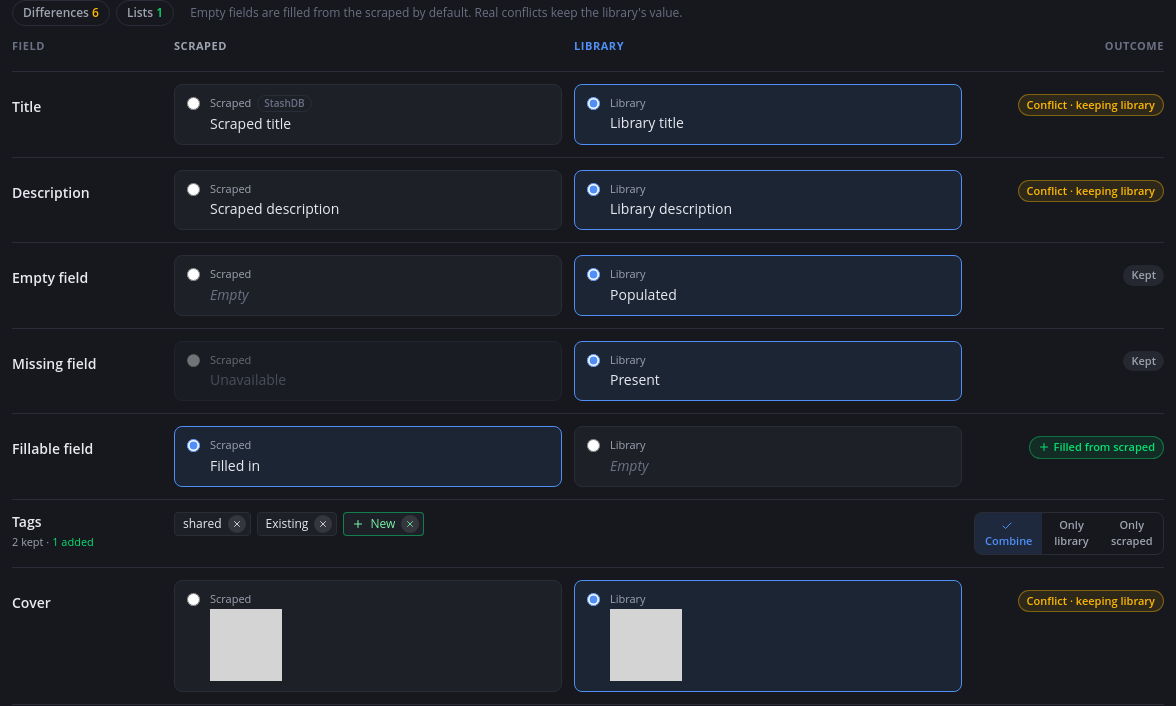
Test: MetadataDiff › applies combined, kept-only and incoming-only presets
Click the button with aria-label "Use source Tags" at [1132, 533], box x1=1100 y1=512 x2=1163 y2=554
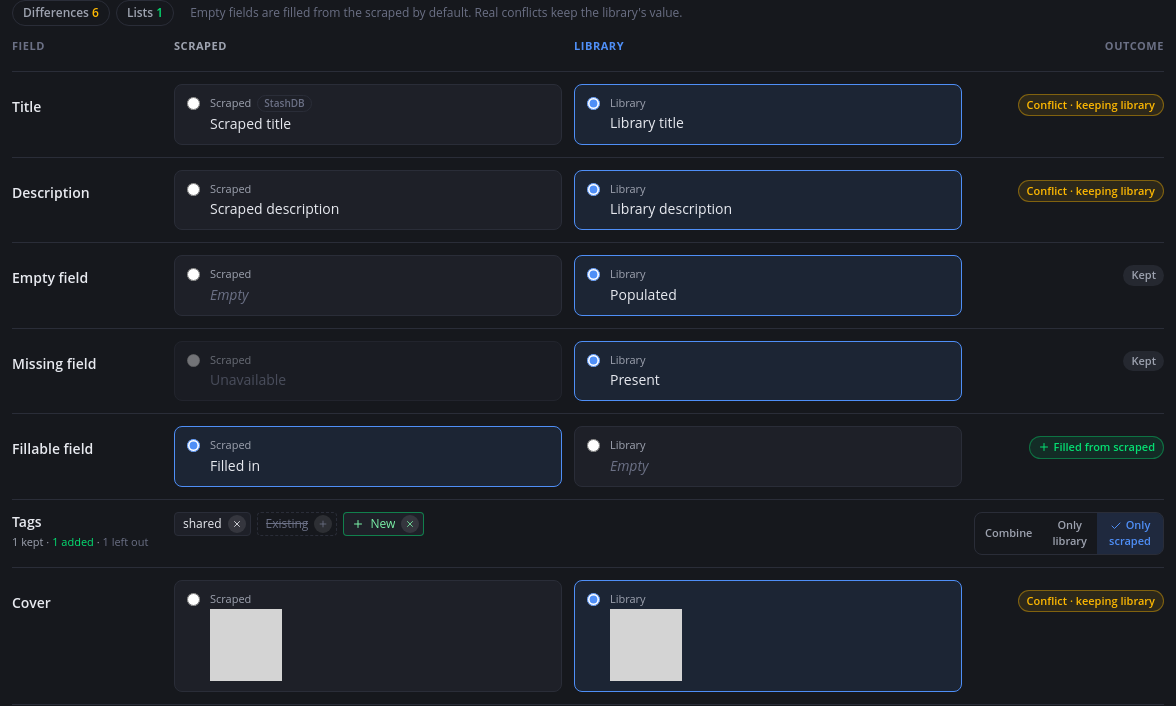
Expected: the button named "Remove Tags: shared" is shown, x1=228 y1=514 x2=246 y2=532
Expected: the button named "Add Tags: existing" is shown, x1=314 y1=514 x2=332 y2=532
Click the button with aria-label "Use target Tags" at [1070, 533], box x1=1042 y1=512 x2=1097 y2=554
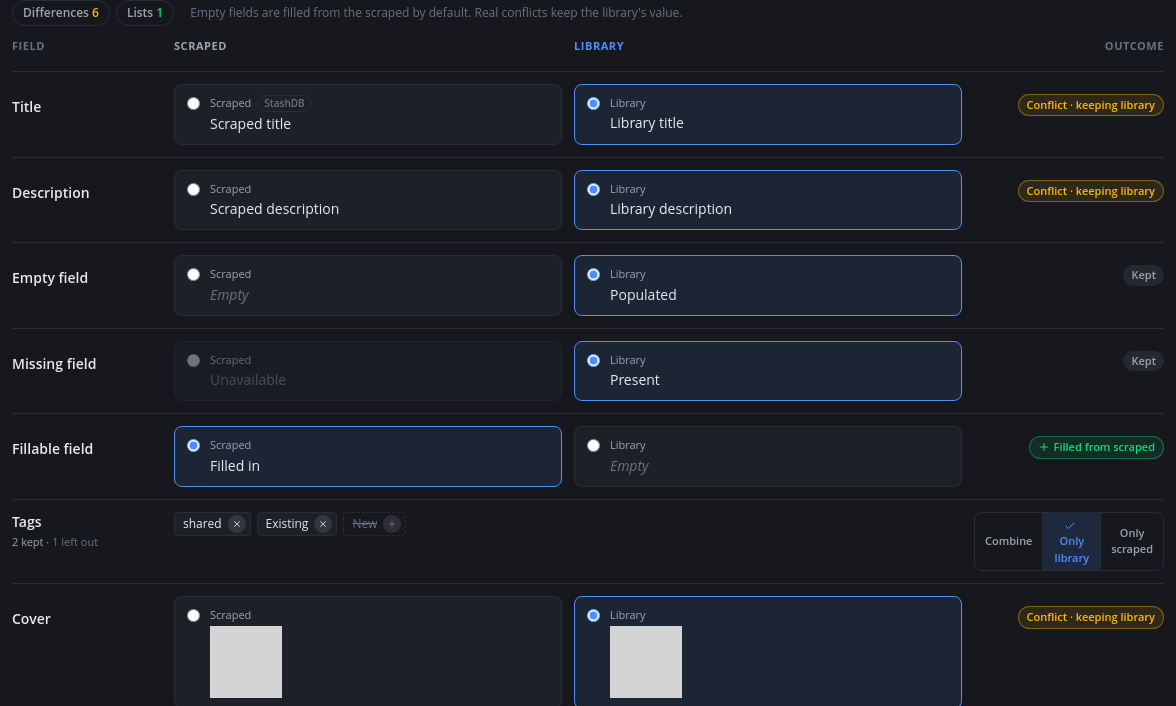
Expected: the button named "Add Tags: new" is shown, x1=383 y1=514 x2=401 y2=532
Expected: the button named "Remove Tags: existing" is shown, x1=314 y1=514 x2=332 y2=532
Click the button with aria-label "Use combined Tags" at [1009, 541], box x1=975 y1=512 x2=1042 y2=570
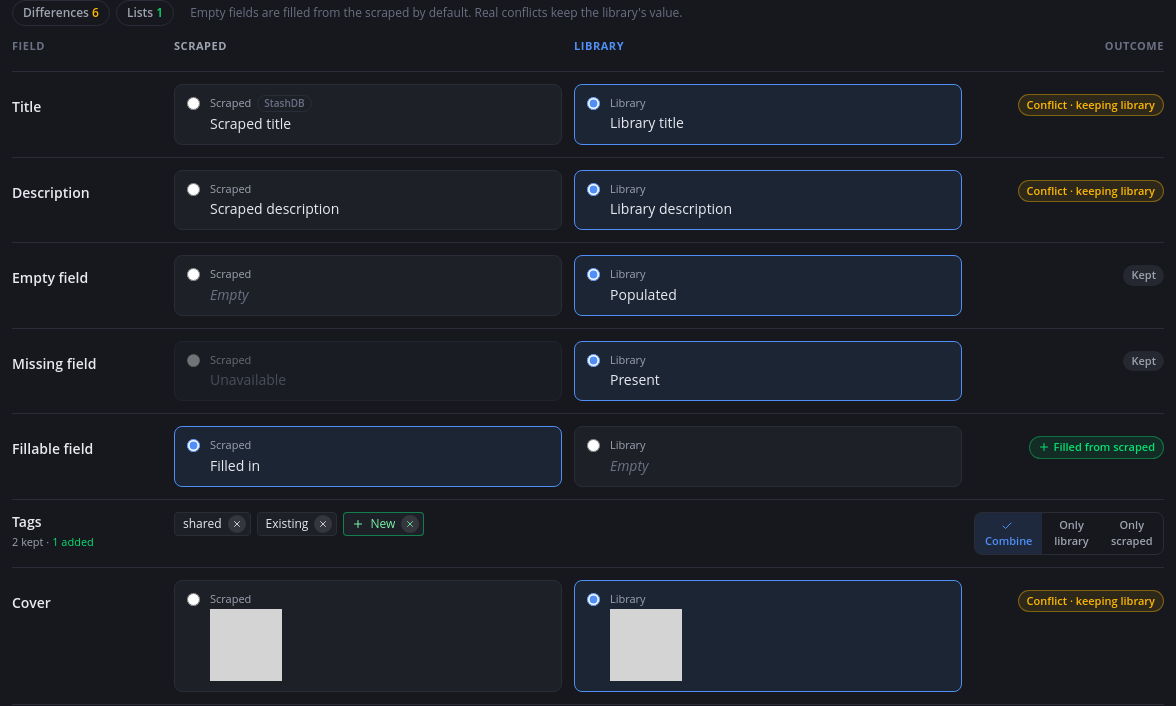
Expected: the button named "Remove Tags: new" is shown, x1=401 y1=514 x2=419 y2=532
